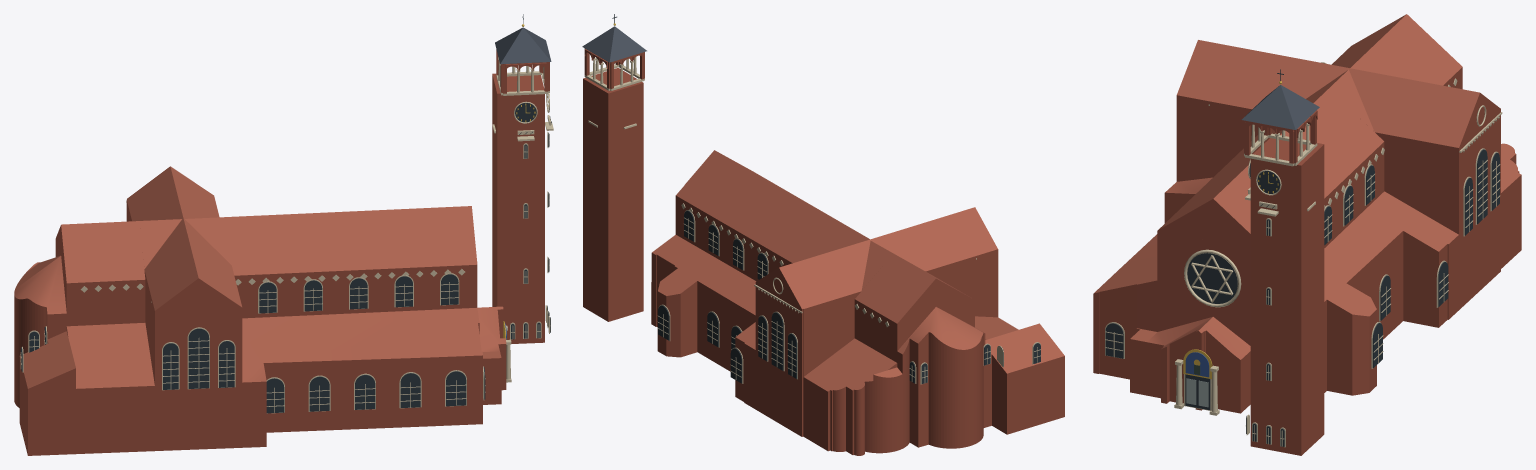
Rendered from sint-agneskerk.glb.
3 renders of one model, left to right at view 1: azimuth 30°, elevation 25°; view 2: azimuth 150°, elevation 25°; view 3: azimuth 270°, elevation 25°, orthographic. The views are drawn at different scales.
Visible parts, largest first — view 1: sint-agneskerk; view 2: sint-agneskerk; view 3: sint-agneskerk.
Boxes of the visible parts, x1,y1,x2,y2 form: sint-agneskerk: [14, 14, 553, 455]; sint-agneskerk: [582, 14, 1064, 455]; sint-agneskerk: [1093, 14, 1521, 455].
Size of the model in its own units: 68.88 by 40.35 by 42.08.
